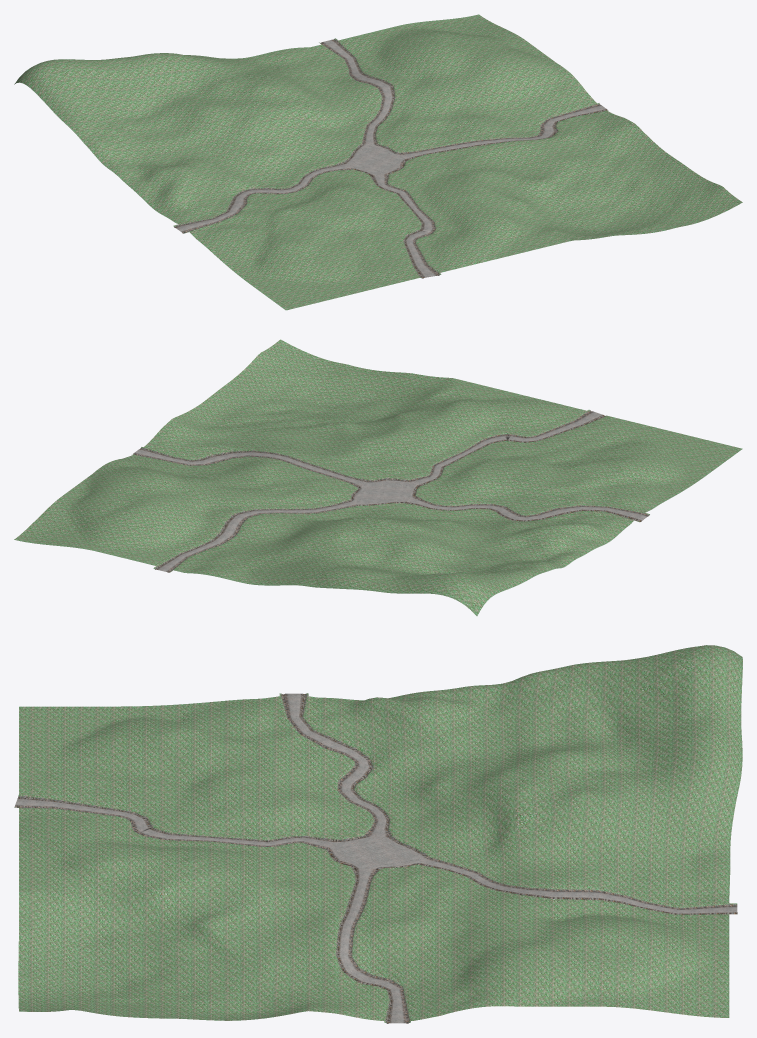
Rendered from ForestGeneric.glb.
3 renders of one model, top to bottom at view 1: azimuth 30°, elevation 25°; view 2: azimuth 150°, elevation 25°; view 3: azimuth 270°, elevation 25°, orthographic. The views are drawn at different scales.
Parts seen in each view (by area): view 1: Path.003; view 2: Path.003; view 3: Path.003.
Boxes of the visible parts, box(x1,y1,x2,y2) form: Path.003: box(14, 14, 742, 310); Path.003: box(14, 339, 742, 616); Path.003: box(14, 645, 742, 1023).
Size of the model in its own units: 81.31 by 12.29 by 82.09.
3 materials, 3 textured.
